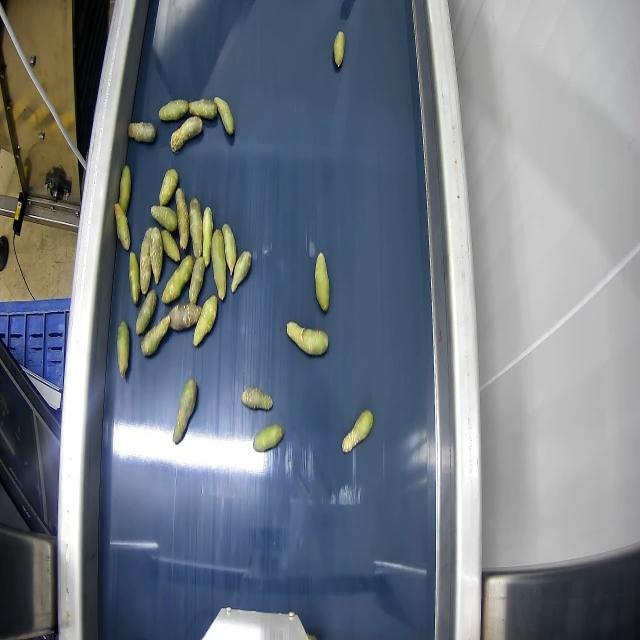Baby Potato: (172, 377, 198, 443), (286, 320, 330, 356), (161, 254, 193, 302), (342, 407, 374, 453), (196, 296, 223, 346), (170, 115, 202, 153), (140, 318, 168, 357), (211, 228, 226, 300), (314, 251, 330, 311), (252, 422, 284, 452), (136, 289, 156, 336), (169, 302, 200, 331), (175, 188, 189, 250), (231, 250, 251, 293), (241, 385, 273, 411), (148, 227, 162, 286), (189, 197, 202, 260), (214, 96, 234, 136), (114, 202, 130, 252), (116, 320, 130, 377), (189, 252, 204, 304), (159, 167, 179, 205), (222, 222, 236, 276), (201, 205, 213, 267), (158, 98, 188, 122), (150, 204, 177, 230), (129, 249, 141, 305), (160, 228, 180, 259), (128, 120, 156, 142), (118, 164, 130, 213), (190, 97, 217, 118), (332, 30, 344, 68)
